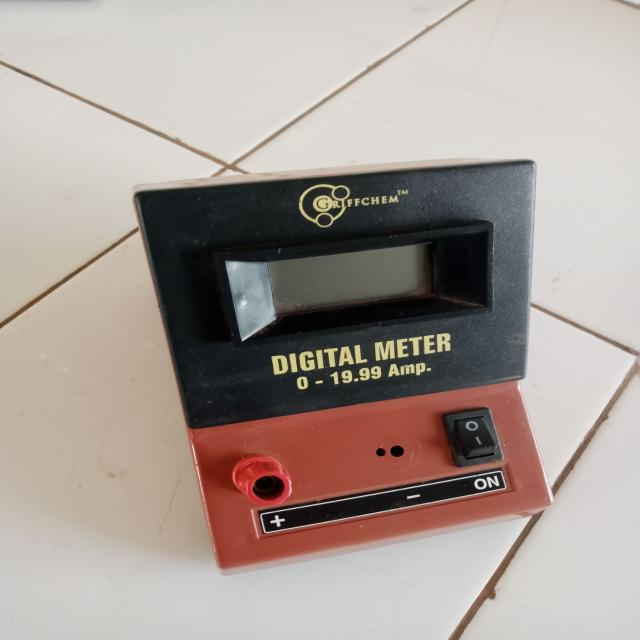Digital Ammeter: (117, 147, 562, 585)
